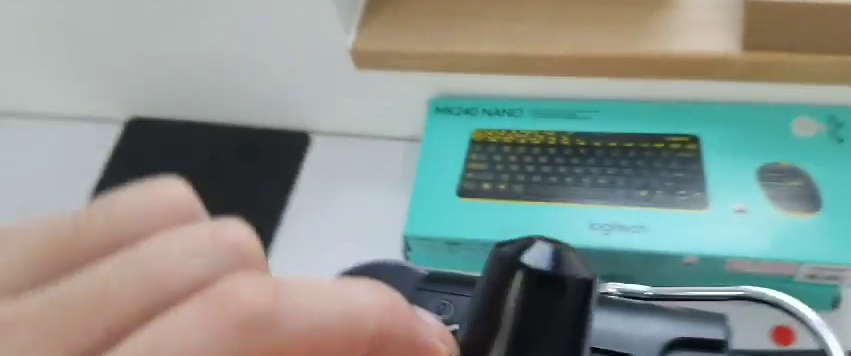capsule_10: (455, 236, 598, 356)
